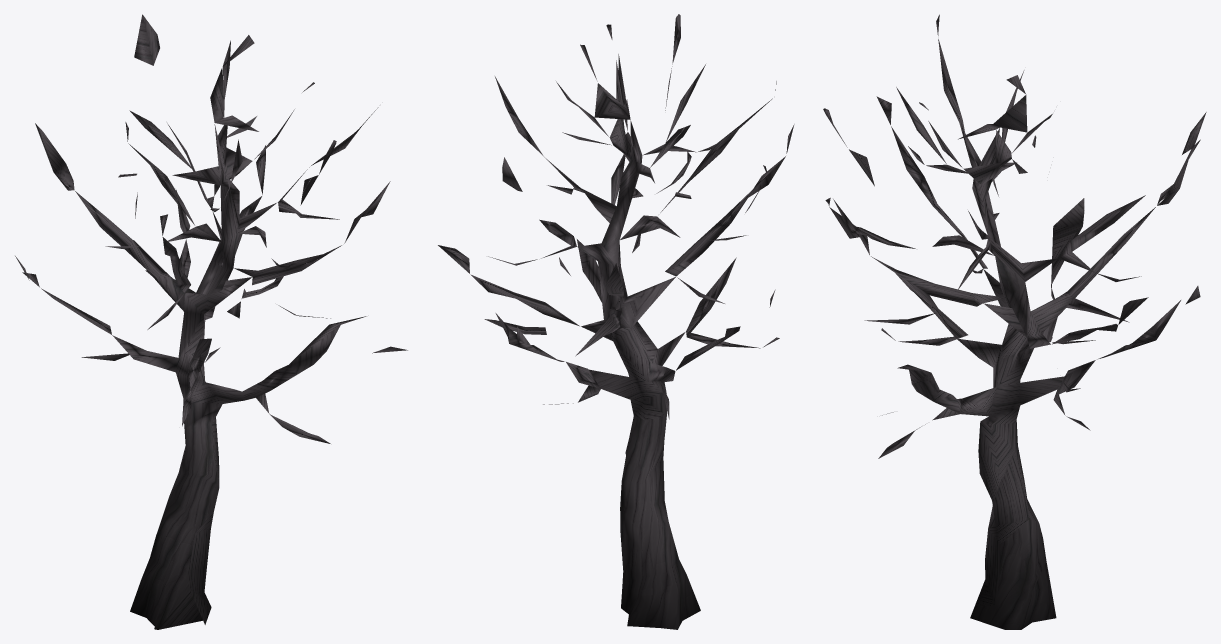
The model's file is DeadTree_1.gltf.
The picture shows the model from 3 angles, left to right: view 1: azimuth 30°, elevation 25°; view 2: azimuth 150°, elevation 25°; view 3: azimuth 270°, elevation 25°; orthographic projection. The views are drawn at different scales.
Visible parts, largest first — view 1: DeadTree_1; view 2: DeadTree_1; view 3: DeadTree_1.
Part boxes in pixels (<box>): DeadTree_1: <box>15,14,407,629</box>; DeadTree_1: <box>438,14,794,629</box>; DeadTree_1: <box>823,14,1206,629</box>.
Bounding box in the file's own units: 5.82 × 9.49 × 5.72.
1 material, 1 textured.
